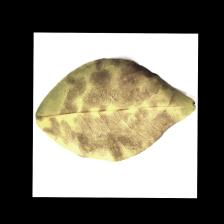black spot: (55, 79, 153, 141)
